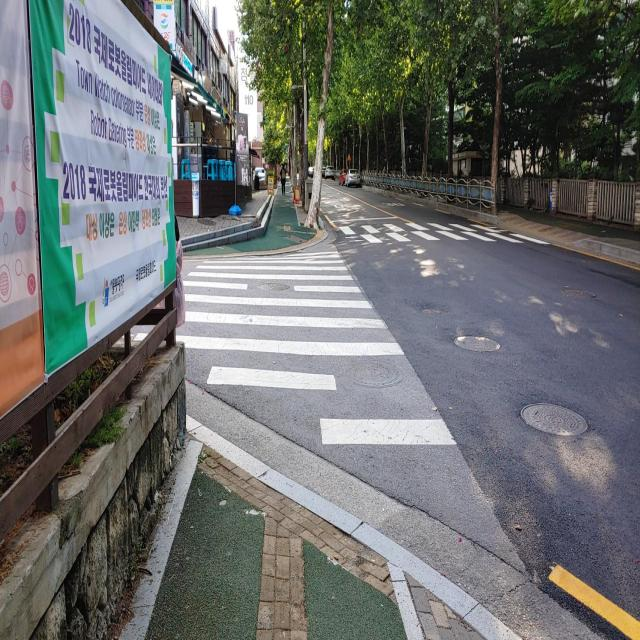횡단보도: (132, 248, 459, 449), (332, 219, 556, 251)
